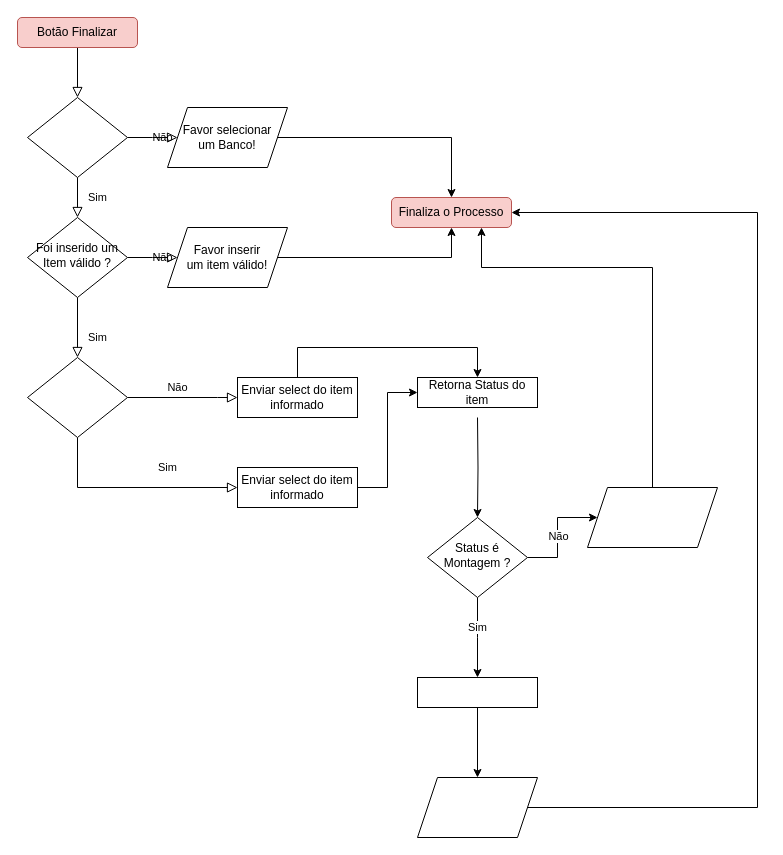
This 783x855 diagram has some shape labels left out. Here are the shapes that lost their labels. From the top down, the centre of each, then its label:
At pixel 77 137: "Um Banco foi selecionado ?".
At pixel 77 397: "Banco é pedidos ?".
At pixel 652 517: "Item não está na Montagem e não pode ser Finalizado!".
At pixel 477 692: "Envia SQL e finaliza o Item".
At pixel 477 807: "Item realizado com Sucesso".
